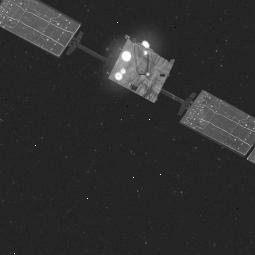smart_1: (55, 6, 231, 131)
